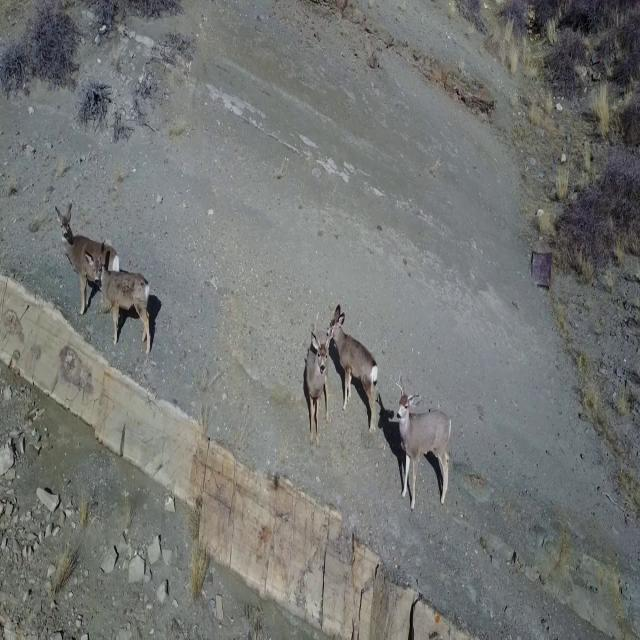Deer: (392, 372, 452, 512), (53, 200, 121, 319), (83, 244, 154, 352), (330, 305, 382, 437), (302, 324, 332, 448)
